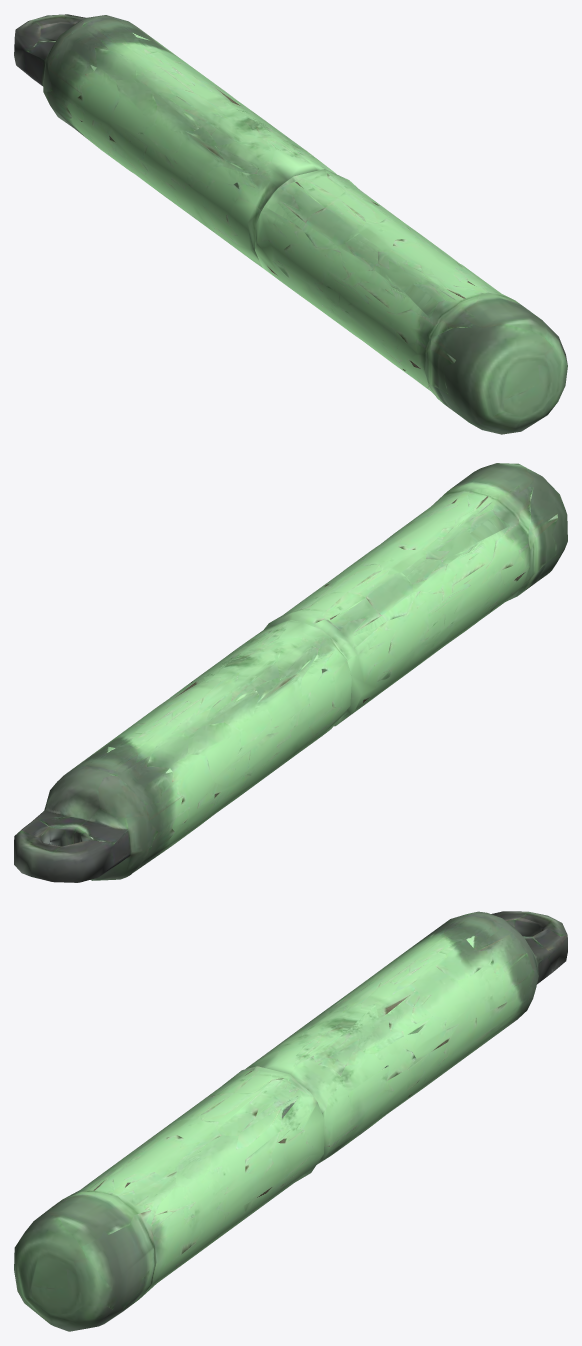
File: glow_sticks.712aa452.glb
3 views of the same model, one above another, from view 1: azimuth 30°, elevation 25°; view 2: azimuth 150°, elevation 25°; view 3: azimuth 330°, elevation 25° (orthographic).
Parts seen in each view (by area): view 1: item; view 2: item; view 3: item.
Part boxes in pixels (x1,y1,x2,y2): item: [14, 14, 567, 434]; item: [14, 463, 567, 882]; item: [14, 911, 567, 1331].
Size of the model in its own units: 0.0194 by 0.0193 by 0.1498.
Materials: 1 (1 with a texture image).
